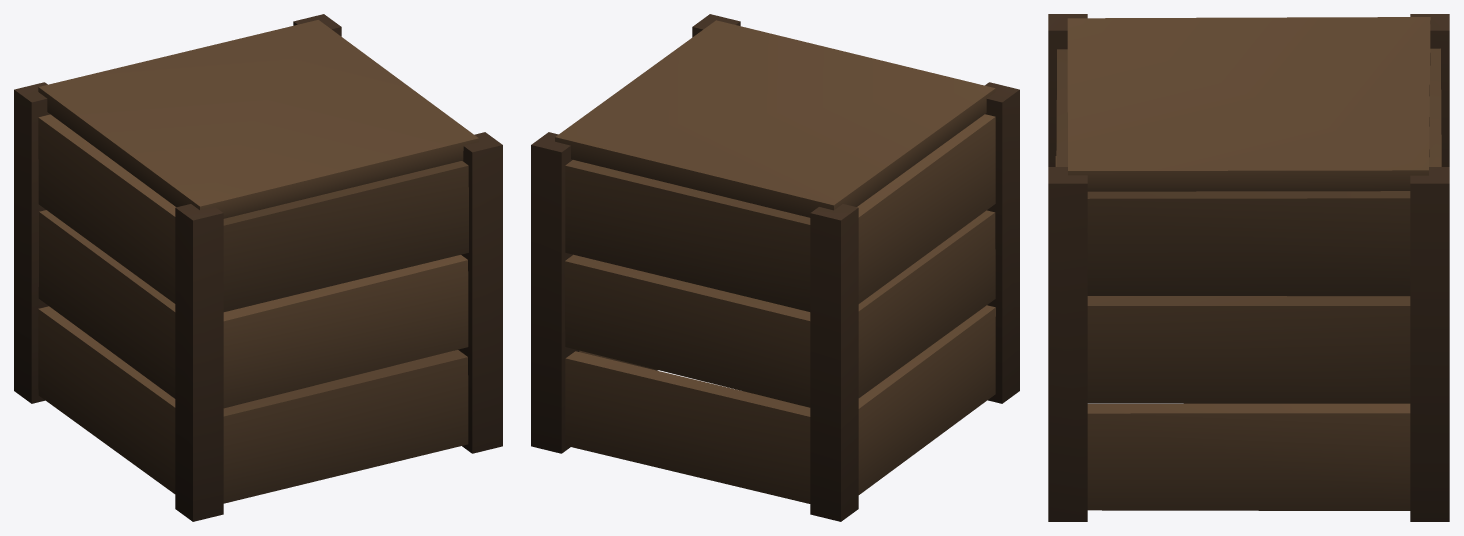
File: ph_prop_crate.glb
3 renders of one model, left to right at view 1: azimuth 30°, elevation 25°; view 2: azimuth 150°, elevation 25°; view 3: azimuth 270°, elevation 25°, orthographic. The views are drawn at different scales.
Parts seen in each view (by area): view 1: ph_prop_crate; view 2: ph_prop_crate; view 3: ph_prop_crate.
Boxes of the visible parts, x1,y1,x2,y2 form: ph_prop_crate: (14,14,502,521); ph_prop_crate: (531,14,1019,521); ph_prop_crate: (1048,14,1449,521).
Bounding box in the file's own units: 0.71 × 0.671 × 0.71.
